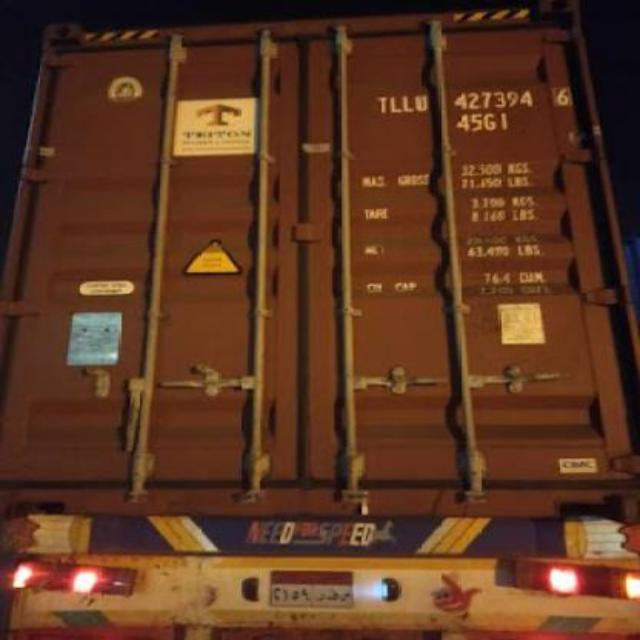2: (466, 86, 479, 112)
3: (491, 85, 504, 111)
4: (520, 85, 536, 109), (454, 89, 466, 113)
6: (552, 85, 570, 109)
7: (478, 88, 490, 110)
9: (506, 88, 520, 114)
L: (386, 90, 404, 116), (402, 90, 414, 120)
T: (372, 94, 390, 115)
U: (412, 89, 430, 118)
